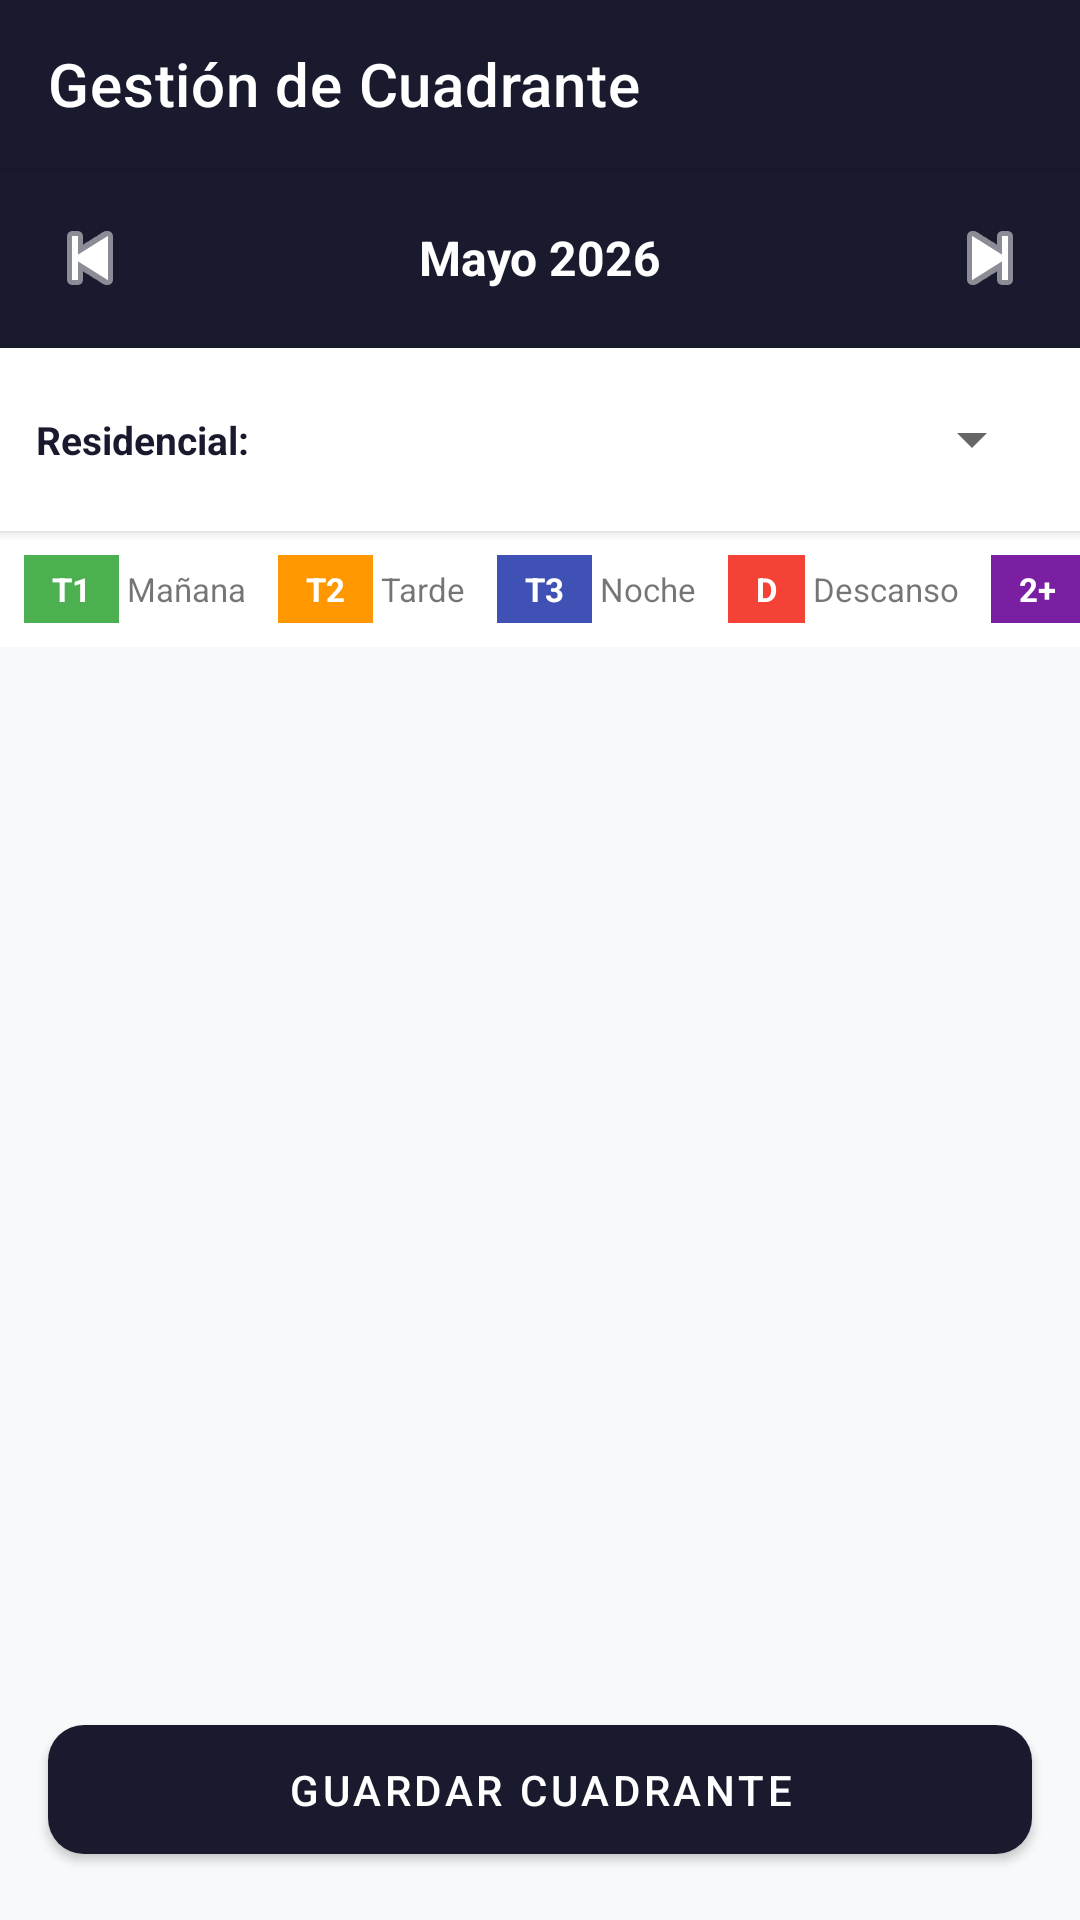

Screen size 1080*1920. Icon name, then its center in pixels as (x=x, y=y):
next: (x=990, y=258)
previous: (x=90, y=258)
